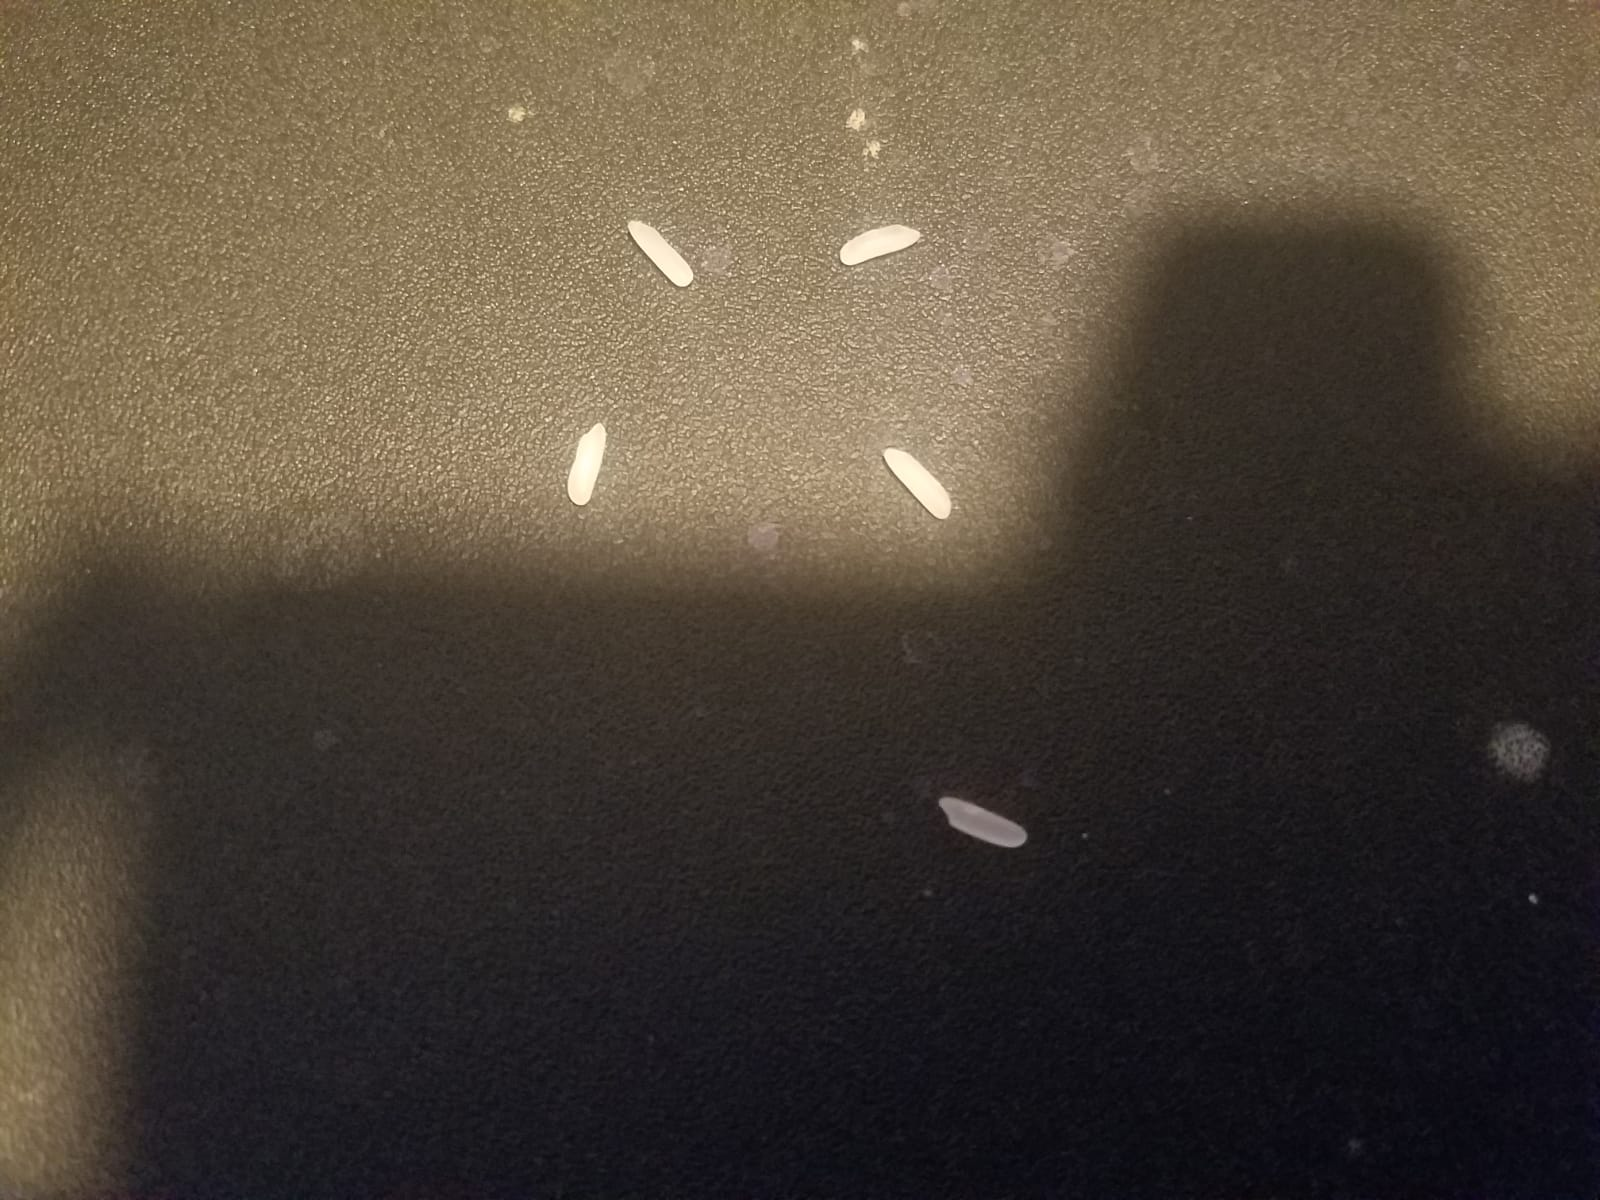egg: (876, 441, 957, 521), (934, 795, 1028, 855), (624, 212, 693, 292), (559, 417, 603, 508), (834, 221, 926, 263)
